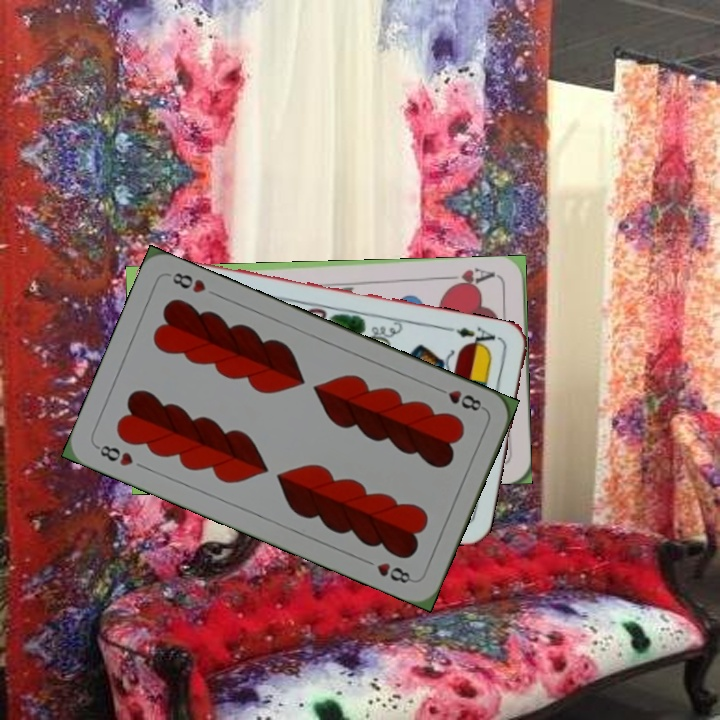EA: (444, 322, 503, 352)
H8: (431, 383, 488, 414), (92, 441, 136, 469)
HA: (441, 263, 500, 291)
